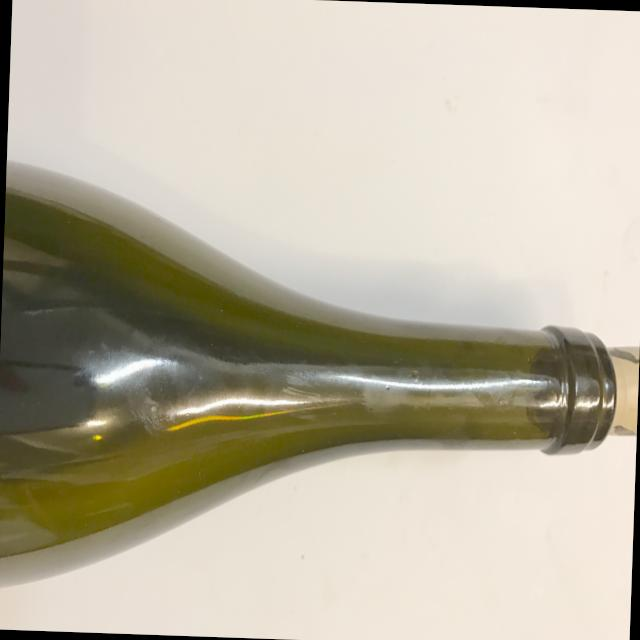Glass: (0, 154, 640, 618)
